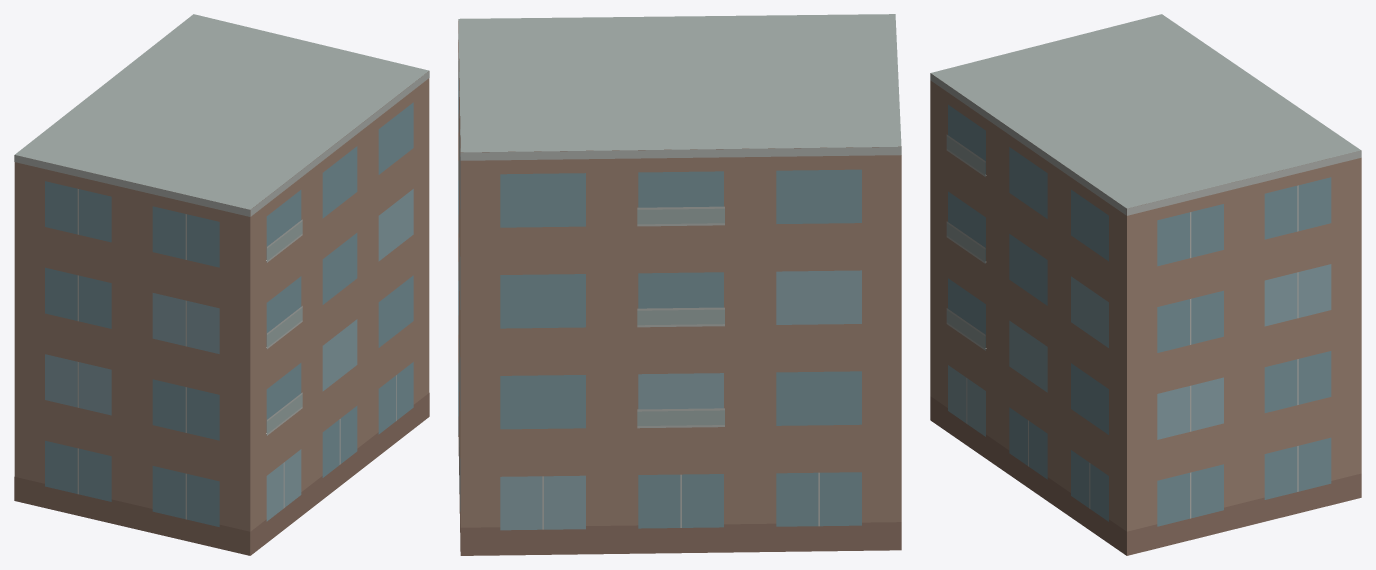
File: survey-upis-32750936.glb
3 renders of one model, left to right at view 1: azimuth 30°, elevation 25°; view 2: azimuth 150°, elevation 25°; view 3: azimuth 270°, elevation 25°, orthographic. The views are drawn at different scales.
Parts seen in each view (by area): view 1: survey-upis-32750936.tmp; view 2: survey-upis-32750936.tmp; view 3: survey-upis-32750936.tmp.
Boxes of the visible parts, <box> form: survey-upis-32750936.tmp: <box>14,14,429,555</box>; survey-upis-32750936.tmp: <box>458,14,901,555</box>; survey-upis-32750936.tmp: <box>930,14,1361,555</box>.
Size of the model in its own units: 14.07 by 11.7 by 13.17.
